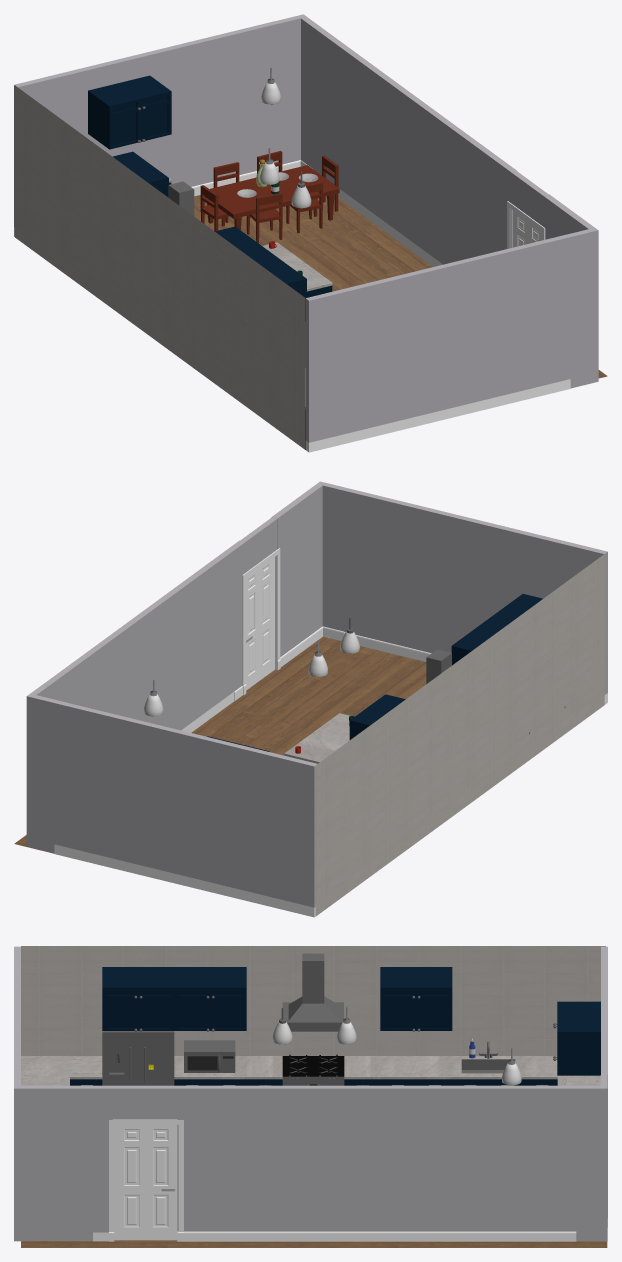
Rendered from KitchenLevel.glb.
3 views of the same model, one above another, from view 1: azimuth 30°, elevation 25°; view 2: azimuth 150°, elevation 25°; view 3: azimuth 270°, elevation 25° (orthographic).
Parts seen in each view (by area): view 1: BackSplash, SolidWall, SolidWall.002, SolidWall.001, Plane, WallCorner, WallCorner.001, UpperCabinets.004, Table, DoorHandle, Island, UpperCabinets.002 (+7 smaller); view 2: BackSplash, SolidWall.001, SolidWall, SolidWall.002, Plane, WallCorner, WallCorner.001, Door, DoorHandle, Island, UpperCabinets, UpperCabinets.001 (+2 smaller); view 3: SolidWall.002, BackSplash, WallCorner, Door, WallCorner.001, UpperCabinets, UpperCabinets.001, UpperCabinets.002, DoorHandle, Plane, Fridge, UpperCabinets.004 (+15 smaller).
Part boxes in pixels (x1,y1,x2,y2): BackSplash: (15, 85, 305, 449); SolidWall: (305, 234, 570, 452); SolidWall.002: (313, 25, 516, 266); SolidWall.001: (14, 21, 278, 236); Plane: (194, 195, 607, 378); WallCorner: (543, 194, 598, 388); WallCorner.001: (276, 14, 318, 170); UpperCabinets.004: (88, 75, 171, 149); Table: (204, 165, 339, 218); DoorHandle: (507, 171, 548, 248); Island: (262, 242, 332, 297); UpperCabinets.002: (251, 252, 306, 321); BackSplash: (315, 554, 604, 916); SolidWall.001: (54, 700, 317, 917); SolidWall: (344, 488, 607, 704); SolidWall.002: (42, 540, 245, 732); Plane: (14, 636, 426, 853); WallCorner: (271, 481, 347, 666); WallCorner.001: (26, 685, 57, 853); Door: (246, 557, 274, 690); DoorHandle: (234, 517, 280, 700); Island: (284, 713, 350, 763); UpperCabinets: (349, 694, 405, 739); UpperCabinets.001: (451, 620, 507, 665); SolidWall.002: (177, 1085, 576, 1241); BackSplash: (21, 946, 605, 1055); WallCorner: (14, 1075, 112, 1241); Door: (114, 1124, 177, 1240); WallCorner.001: (575, 1075, 607, 1241); UpperCabinets: (380, 967, 452, 1031); UpperCabinets.001: (174, 967, 246, 1031); UpperCabinets.002: (102, 967, 174, 1031); DoorHandle: (93, 1085, 183, 1241); Plane: (21, 1240, 607, 1247); Fridge: (102, 1031, 174, 1085); UpperCabinets.004: (553, 1001, 600, 1075).
Bounding box in the file's own units: 10.84 × 5.24 × 18.27.
24 materials, 4 textured.
